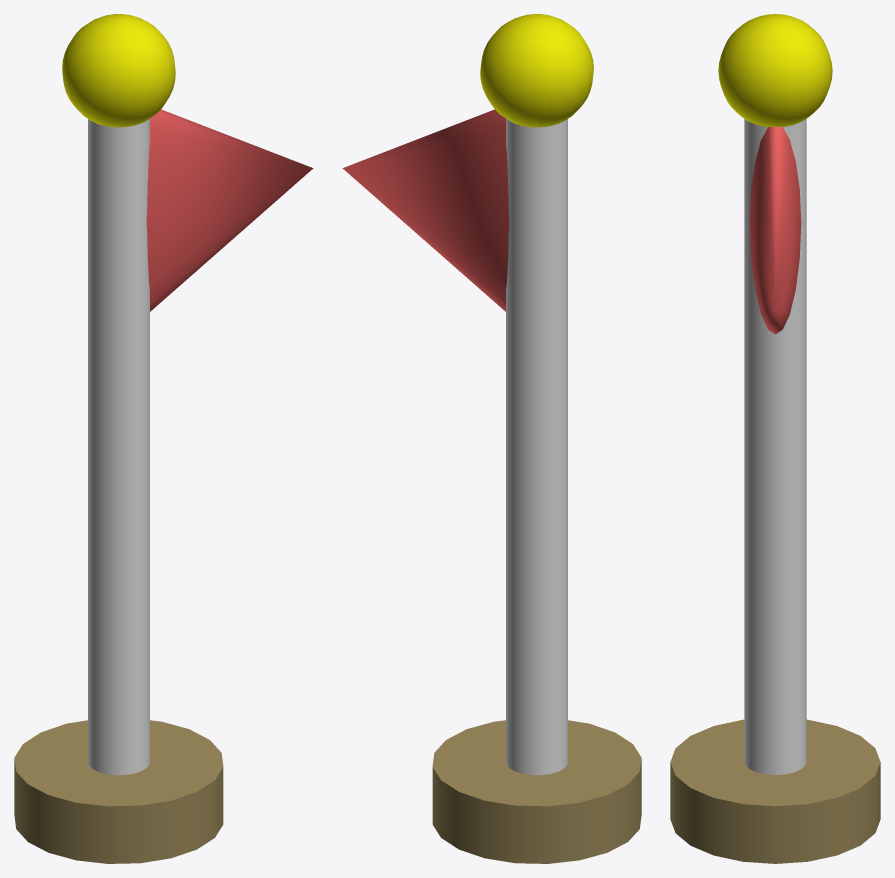
Rendered from Goalpoal.fbx.
The picture shows the model from 3 angles, left to right: view 1: azimuth 30°, elevation 25°; view 2: azimuth 150°, elevation 25°; view 3: azimuth 270°, elevation 25°; orthographic projection.
Parts seen in each view (by area): view 1: pCylinder2, pCylinder1, pCone1, pSphere1; view 2: pCylinder2, pCylinder1, pCone1, pSphere1; view 3: pCylinder2, pCylinder1, pSphere1, pCone1.
Part boxes in pixels (box(x1,y1,x2,y2)): pCylinder2: box(88, 118, 149, 775); pCylinder1: box(14, 720, 223, 863); pCone1: box(146, 109, 313, 311); pSphere1: box(62, 14, 175, 127); pCylinder2: box(506, 118, 567, 775); pCylinder1: box(432, 720, 641, 863); pCone1: box(342, 109, 509, 311); pSphere1: box(480, 14, 593, 127); pCylinder2: box(744, 119, 806, 774); pCylinder1: box(670, 719, 880, 863); pSphere1: box(718, 14, 832, 126); pCone1: box(749, 126, 801, 334).
Size of the model in its own units: 0.9497 by 2.54 by 0.6052.
